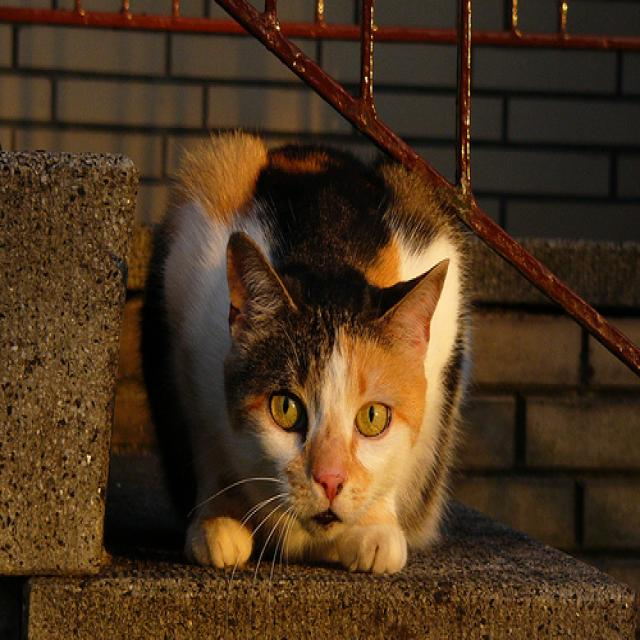cat: (139, 129, 475, 578)
